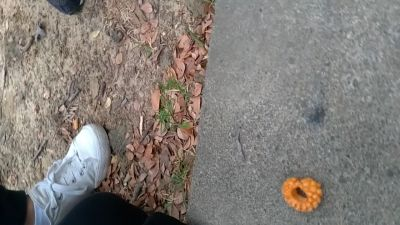eggs: (279, 176, 325, 213)
